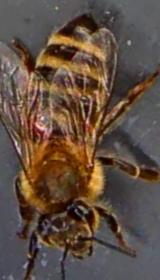varroa_mite: (27, 115, 52, 140)
